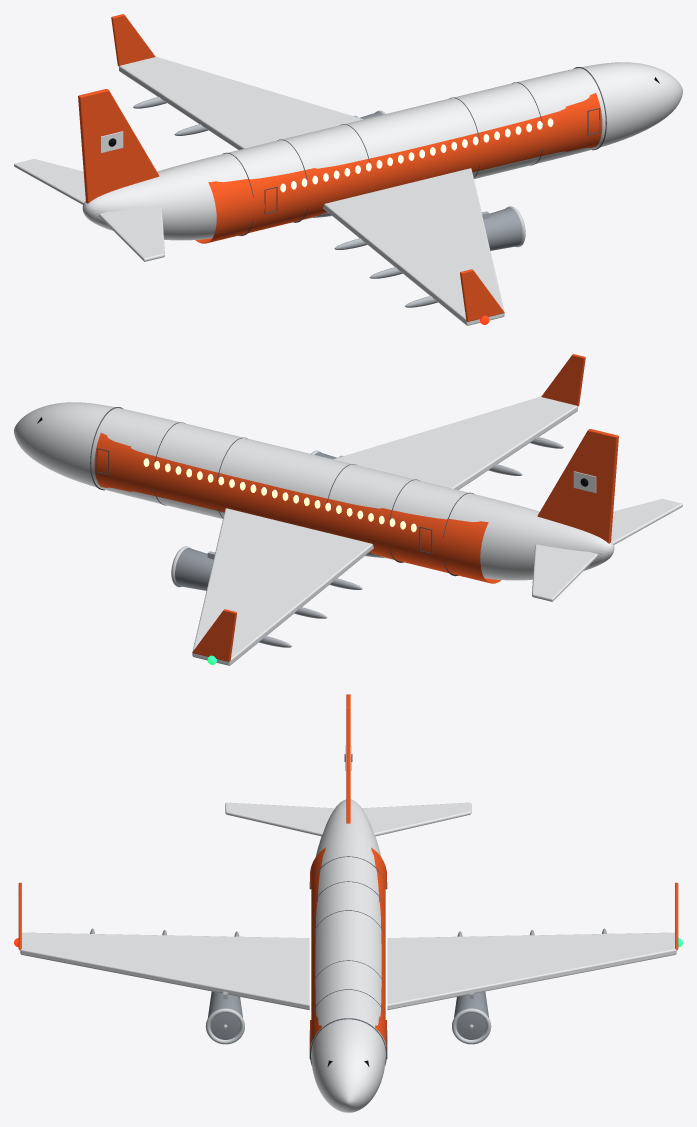
The model's file is airliner.glb.
3 renders of one model, top to bottom at view 1: azimuth 30°, elevation 25°; view 2: azimuth 150°, elevation 25°; view 3: azimuth 270°, elevation 25°, orthographic. The views are drawn at different scales.
Parts seen in each view (by area): view 1: Airliner, CabinLights; view 2: Airliner, CabinLights; view 3: Airliner, CabinLights.
Boxes of the visible parts, x1,y1,x2,y2 form: Airliner: (14, 14, 682, 325); CabinLights: (280, 118, 553, 192); Airliner: (14, 354, 682, 665); CabinLights: (143, 458, 416, 532); Airliner: (18, 694, 678, 1112); CabinLights: (309, 889, 387, 1019).
Bounding box in the file's own units: 7.2 × 2.19 × 7.34.
